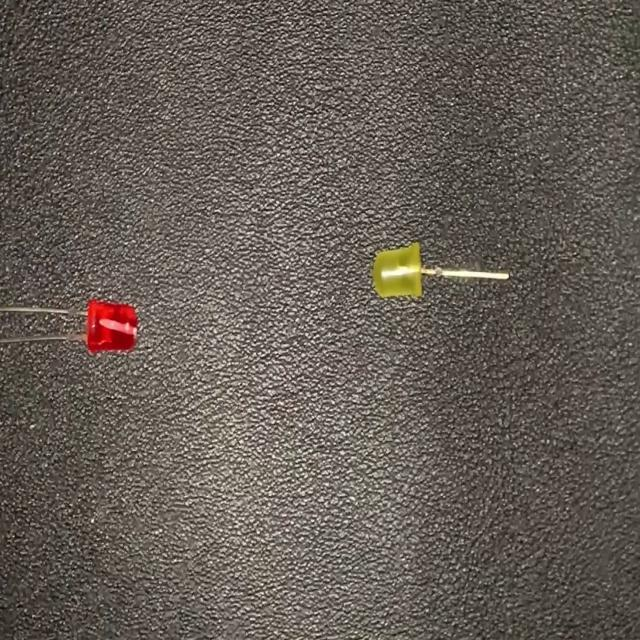LED: (0, 292, 140, 357)
missing-leg: (370, 238, 512, 302)
